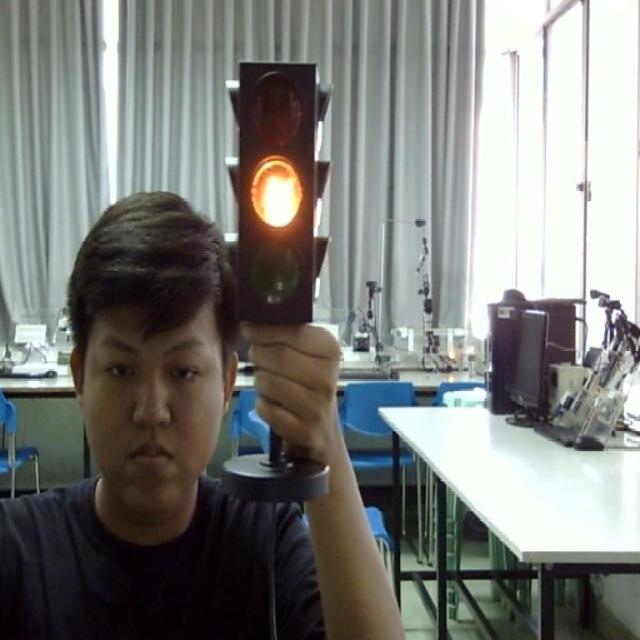yellow light: (246, 150, 316, 236)
